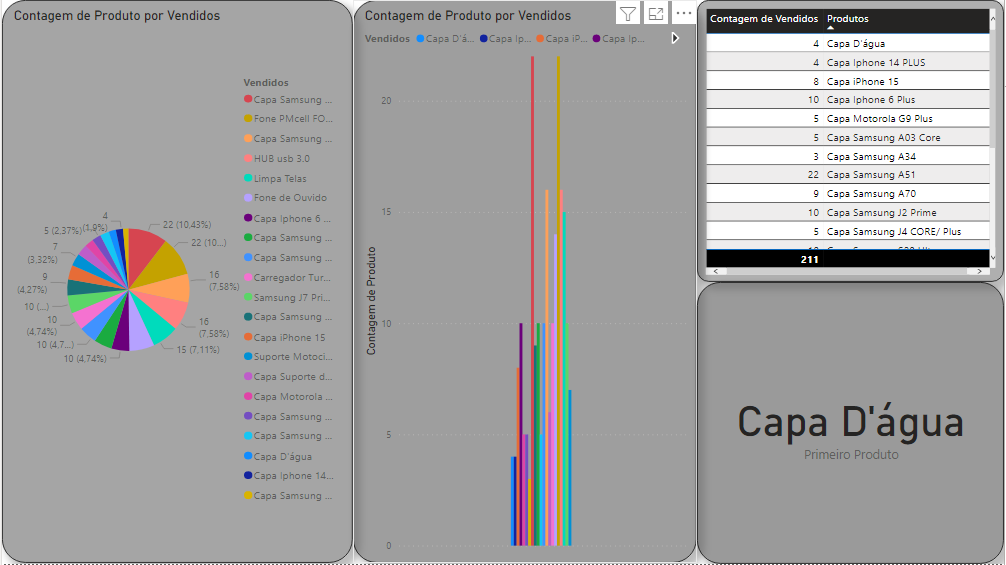

This screenshot's page, from the dashboard's own definition file:
{"tool":"powerbi","page":{"name":"Maio","canvas":[1980,1080],"ordinal":0},"visuals":[{"type":"pieChart","fields":{"Y":["CountNonNull(Planilha1 (2). ACESSÓRIOS  VENDIDOS)","CountNonNull(Planilha1 (2). SAMSUNG VENDIDOS)","CountNonNull(Planilha1 (2).IPHONE VENDIDOS)","CountNonNull(Planilha1 (2).MOTOROLA VENDIDOS)"]},"box":[0,0,657.3,1079.5],"z":0},{"type":"tableEx","fields":{"Values":["Planilha1 (2).IPHONE VENDIDOS","Sum(Planilha1 (2).VALOR)","Planilha1 (2). SAMSUNG VENDIDOS","Sum(Planilha1 (2).VALOR_1)","Planilha1 (2).MOTOROLA VENDIDOS","Sum(Planilha1 (2).VALOR_2)","Planilha1 (2). ACESSÓRIOS  VENDIDOS","Sum(Planilha1 (2).VALOR_3)"]},"box":[1532.4,0,447.6,1079.5],"z":1000},{"type":"clusteredColumnChart","fields":{"Y":["CountNonNull(Planilha1 (2). ACESSÓRIOS  VENDIDOS)","CountNonNull(Planilha1 (2). SAMSUNG VENDIDOS)","CountNonNull(Planilha1 (2).IPHONE VENDIDOS)","CountNonNull(Planilha1 (2).MOTOROLA VENDIDOS)"]},"box":[657.3,0,875.1,351.4],"z":2000},{"type":"card","fields":{"Values":["Min(Planilha1.Produto)"]},"box":[657.3,710.8,875.1,368.7],"z":3000},{"type":"donutChart","fields":{"Y":["CountNonNull(Planilha1 (2). ACESSÓRIOS  VENDIDOS)","CountNonNull(Planilha1 (2). SAMSUNG VENDIDOS)"],"Category":["Planilha2.Produto"]},"box":[657.3,351.4,875.1,359.4],"z":4000}]}

Visuals, with their boxes in screenshot pixels (x1, y1, x2, y2), scaled from the page's 1980x1080 canvas onto the 1006x565 screenshot:
pieChart - CountNonNull(Planilha1 (2). ACESSÓRIOS  VENDIDOS) x CountNonNull(Planilha1 (2). SAMSUNG VENDIDOS): 0/0/334/564
tableEx - Planilha1 (2).IPHONE VENDIDOS x Sum(Planilha1 (2).VALOR): 779/0/1005/564
clusteredColumnChart - CountNonNull(Planilha1 (2). ACESSÓRIOS  VENDIDOS) x CountNonNull(Planilha1 (2). SAMSUNG VENDIDOS): 334/0/779/184
card - Min(Planilha1.Produto): 334/372/779/564
donutChart - CountNonNull(Planilha1 (2). ACESSÓRIOS  VENDIDOS) x CountNonNull(Planilha1 (2). SAMSUNG VENDIDOS): 334/184/779/372
